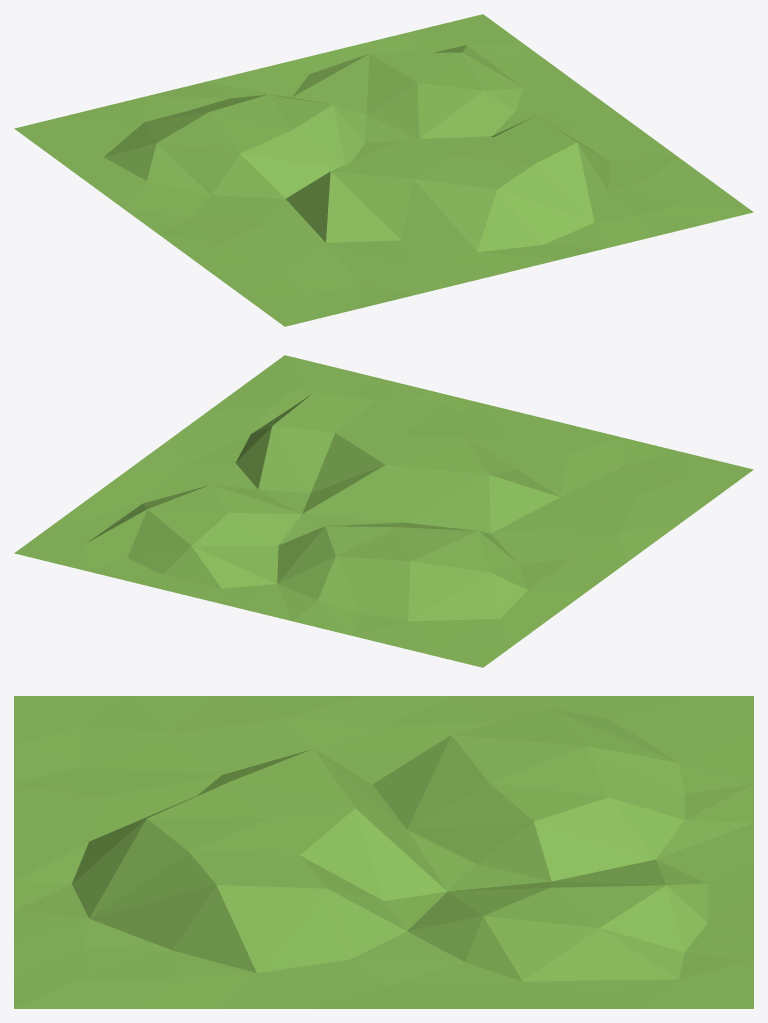
File: MT_Terrain_S_c_20_LOD.fbx
The picture shows the model from 3 angles, top to bottom: view 1: azimuth 30°, elevation 25°; view 2: azimuth 150°, elevation 25°; view 3: azimuth 270°, elevation 25°; orthographic projection. The views are drawn at different scales.
Visible parts, largest first — view 1: MT_Terrain_S_c_20_LOD0; view 2: MT_Terrain_S_c_20_LOD0; view 3: MT_Terrain_S_c_20_LOD0.
Boxes of the visible parts, left/top/right/bottom form: MT_Terrain_S_c_20_LOD0: left=14, top=14, right=753, bottom=326; MT_Terrain_S_c_20_LOD0: left=14, top=355, right=753, bottom=667; MT_Terrain_S_c_20_LOD0: left=14, top=696, right=753, bottom=1008.
Size of what is drawn, in the model's own units: 2500 by 216 by 2500.
